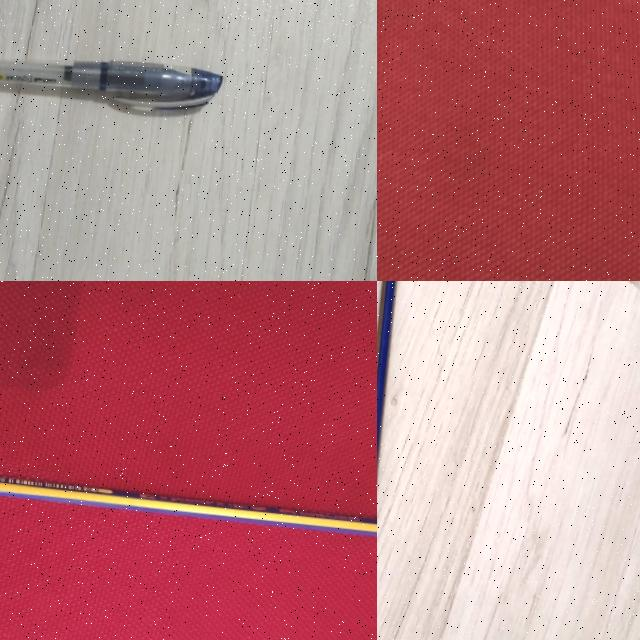pen: (0, 60, 222, 109)
pencil: (0, 476, 376, 537), (377, 281, 396, 474)
